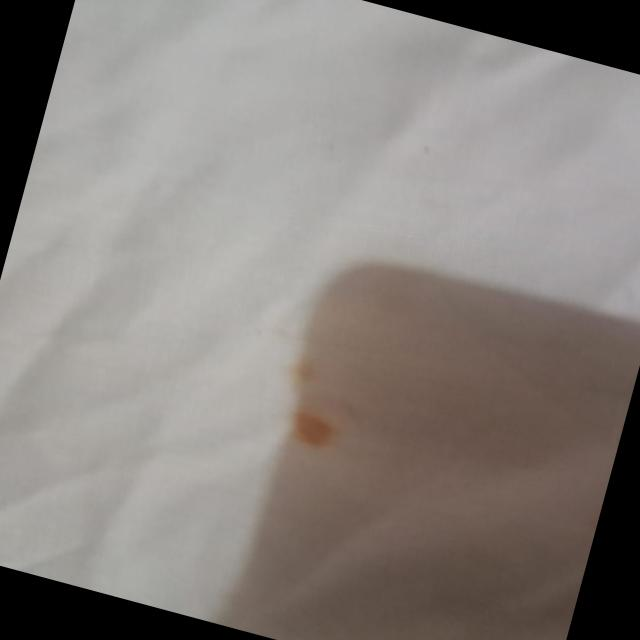stain: (245, 335, 368, 462)
